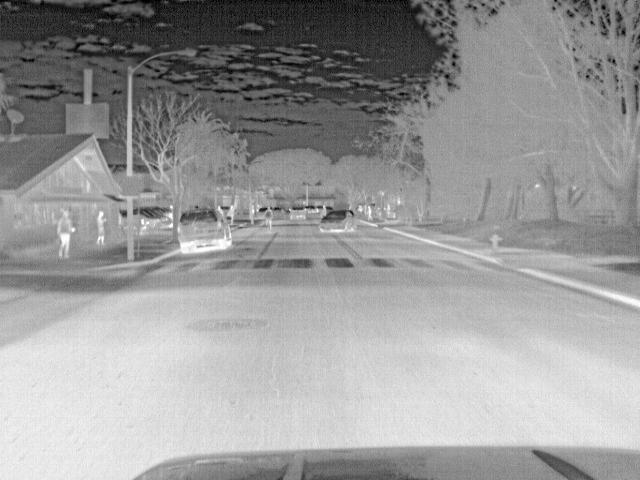car: (179, 203, 234, 255), (320, 207, 357, 234), (287, 204, 306, 222)
person: (56, 211, 79, 261), (94, 206, 111, 248), (261, 204, 277, 232), (364, 204, 376, 222)
